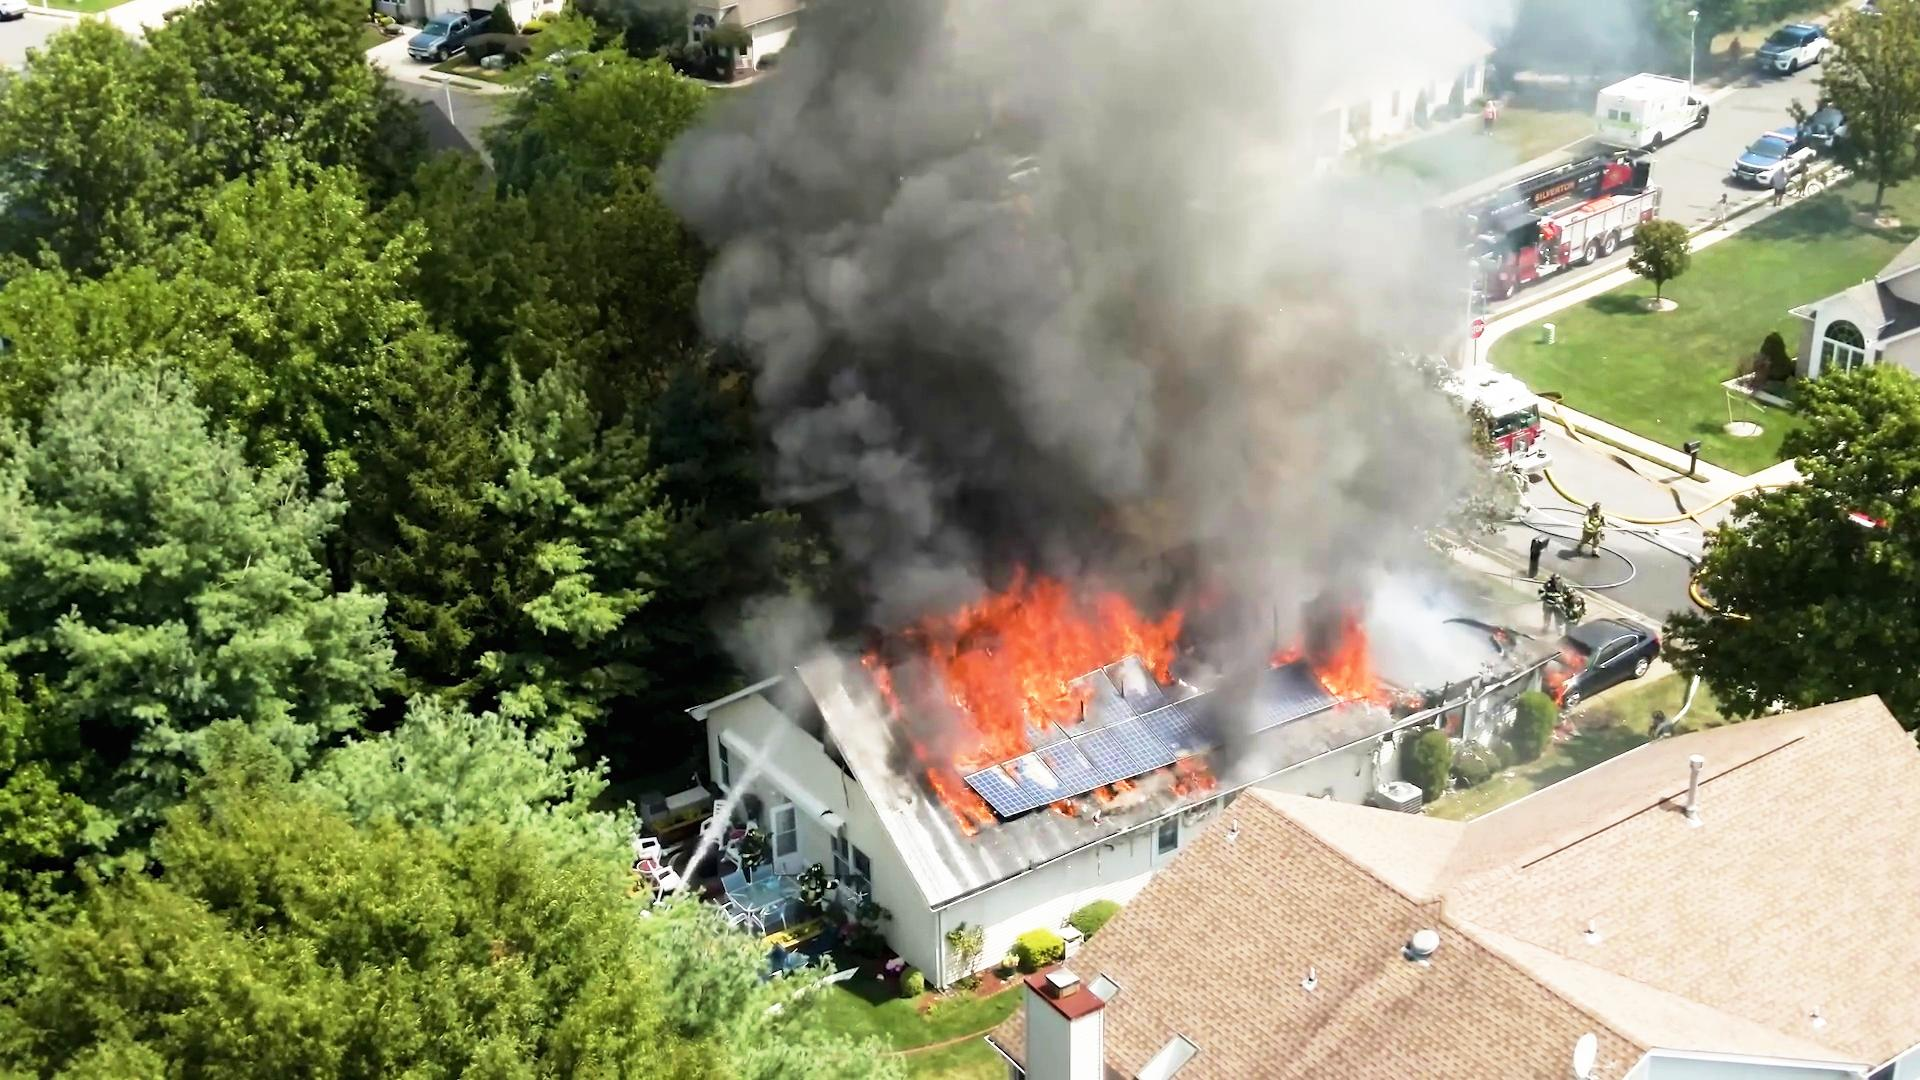fire: (748, 36, 1296, 406), (862, 533, 1155, 736)
